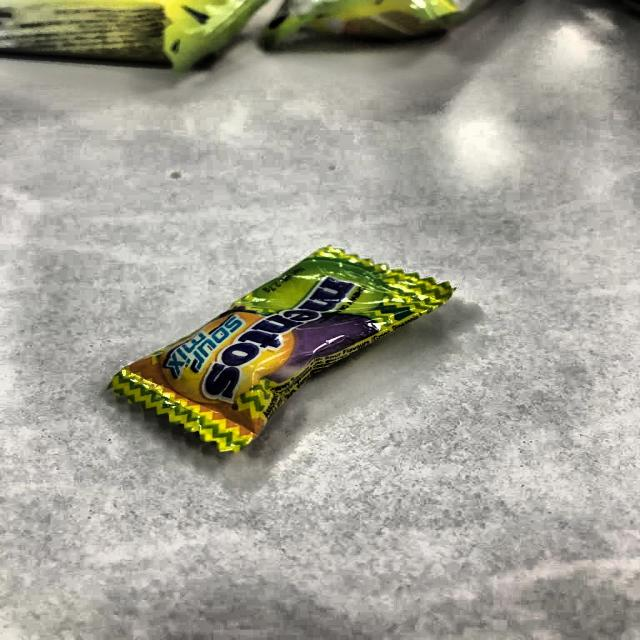Plastic: (97, 238, 467, 462), (3, 3, 254, 74), (270, 2, 486, 40)
